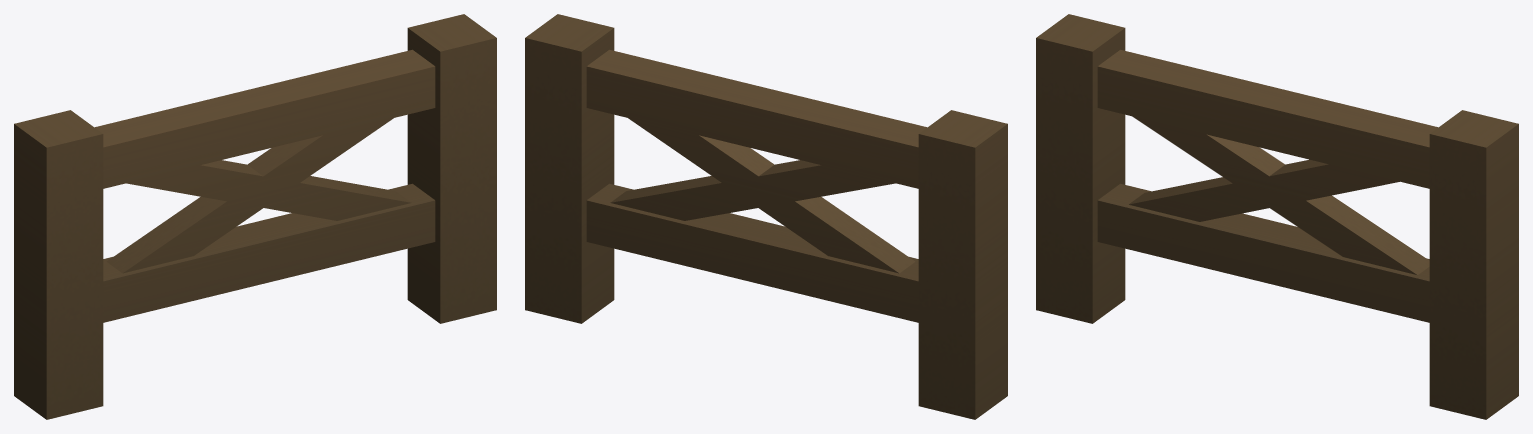
File: Fence_D1.001.glb
3 renders of one model, left to right at view 1: azimuth 30°, elevation 25°; view 2: azimuth 150°, elevation 25°; view 3: azimuth 330°, elevation 25°, orthographic.
Parts seen in each view (by area): view 1: Fence_D1.003; view 2: Fence_D1.003; view 3: Fence_D1.003.
Part boxes in pixels (x1,y1,x2,y2): Fence_D1.003: [14, 14, 496, 419]; Fence_D1.003: [525, 14, 1007, 419]; Fence_D1.003: [1036, 14, 1518, 419].
Size of the model in its own units: 1.97 by 1.14 by 0.2473.
1 material, 1 textured.
